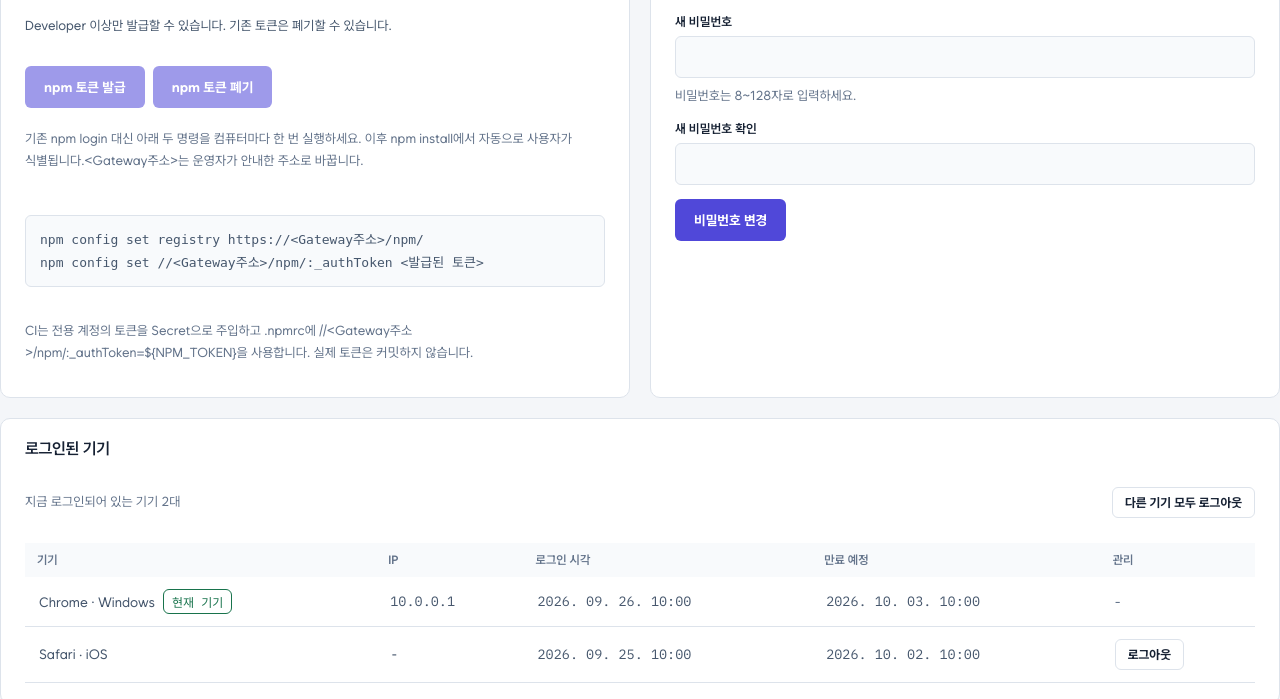
Test case: sessions › signs out one other device by id and refreshes
This screenshot has width=1280, height=699.
(page scrolled)
Click the button with aria-label "Safari · iOS 로그아웃" at (1149, 654), box [1115,639,1184,670]
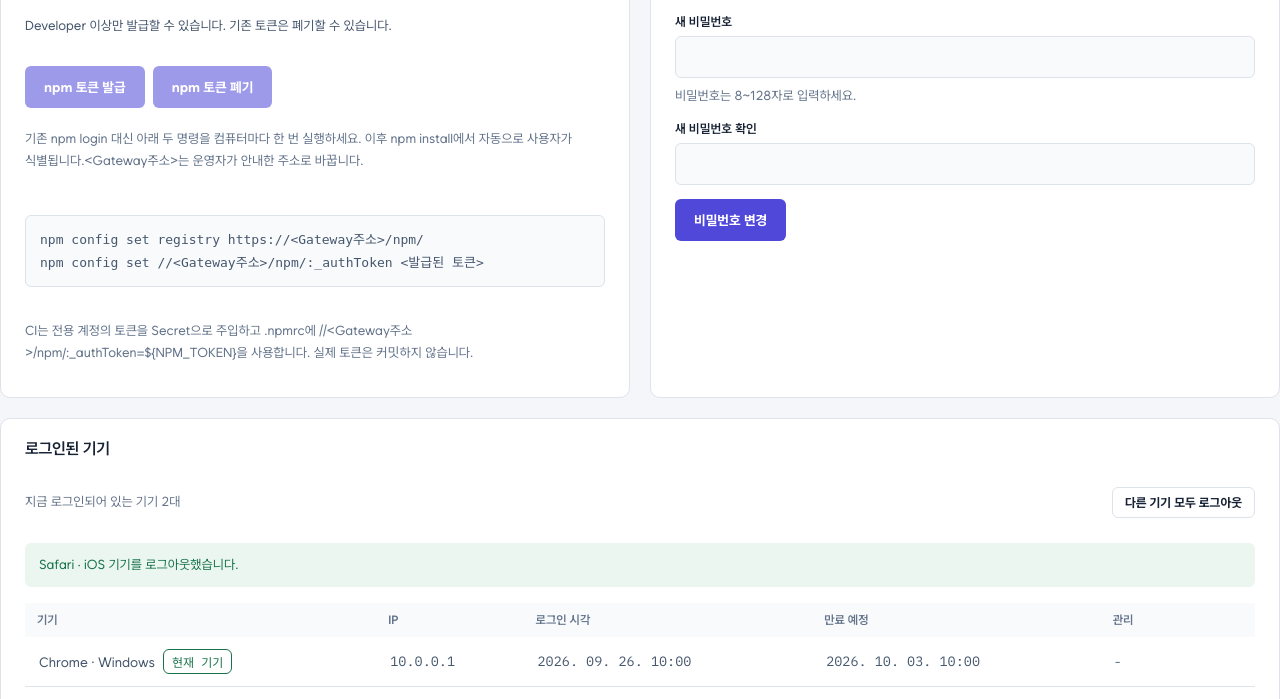
Expected: the message reads "Safari · iOS 기기를 로그아웃했습니다.", [39,557,238,572]
